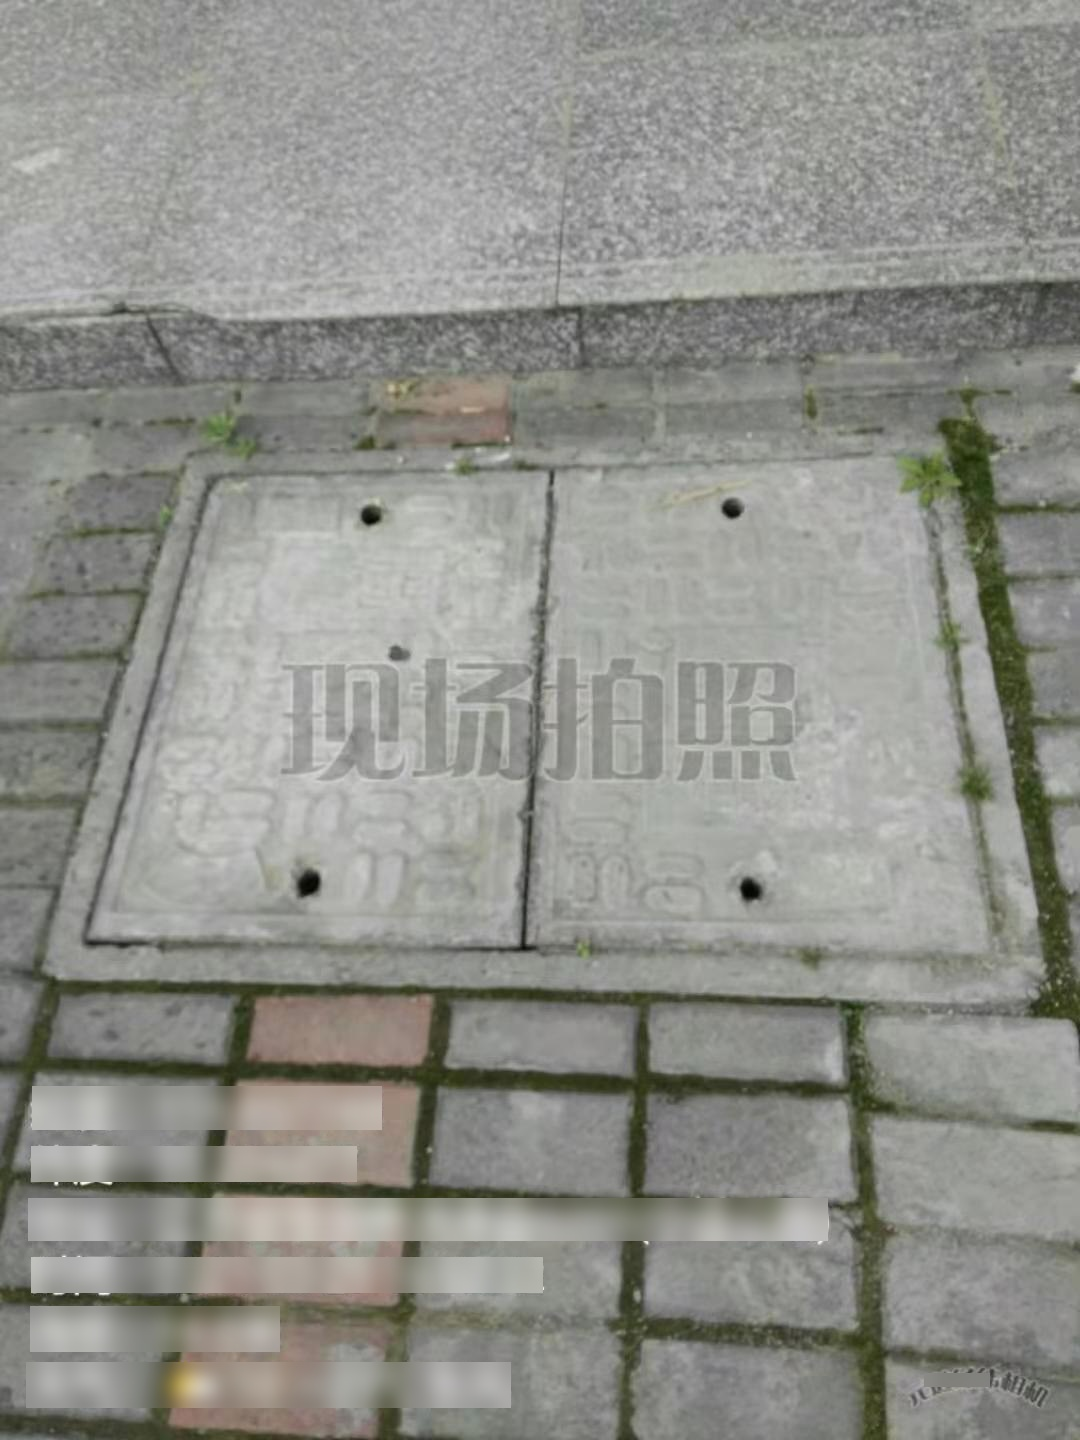well: (44, 434, 1038, 1003)
